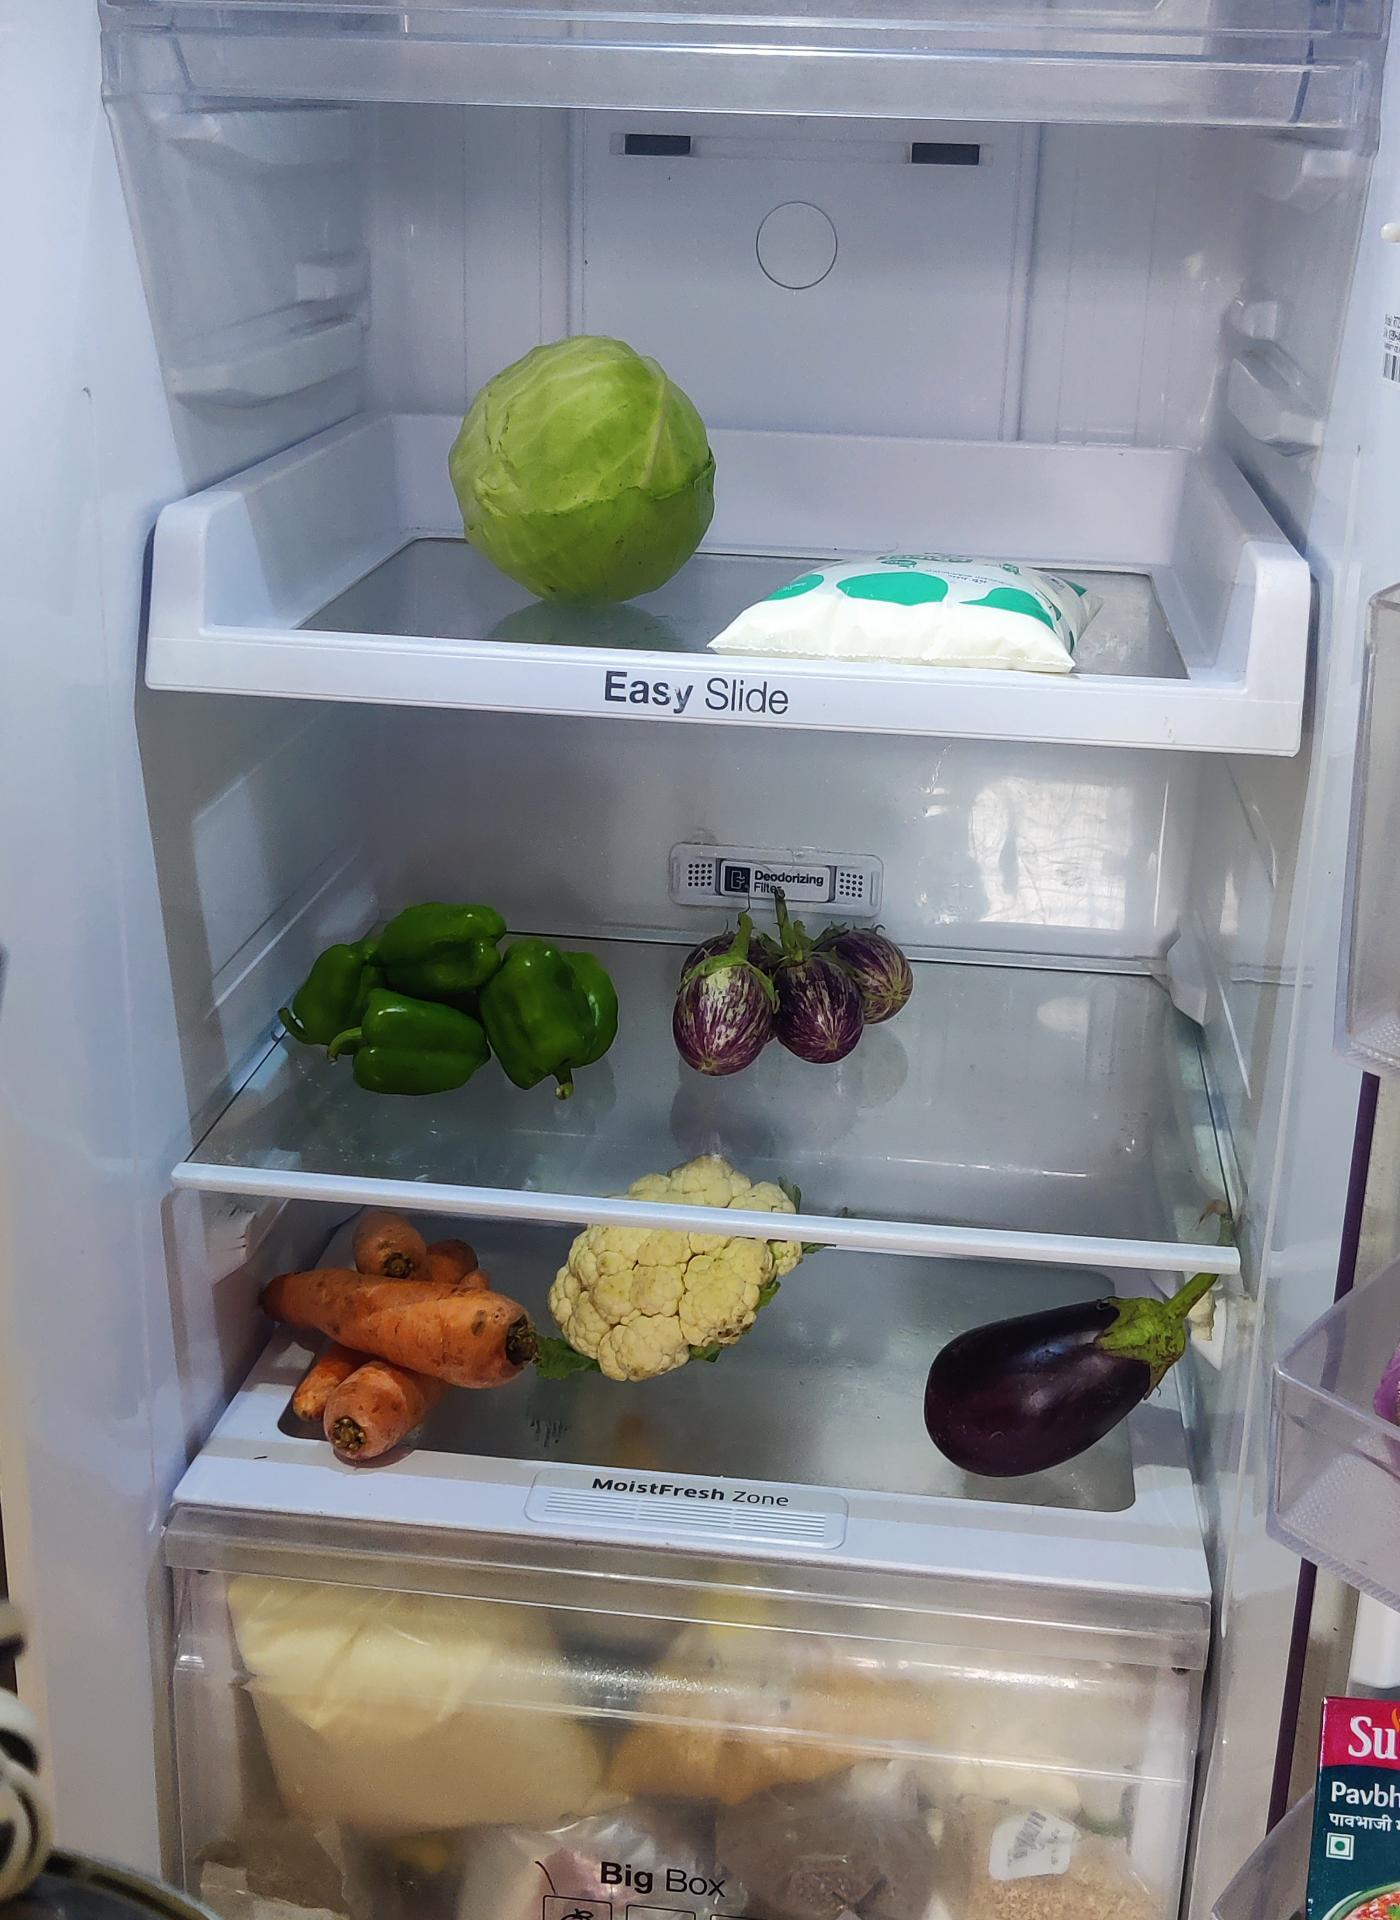brinjal: (923, 1264, 1208, 1482), (675, 903, 904, 1067)
cabbage: (455, 341, 713, 592)
capsicum: (291, 903, 620, 1090)
carrots: (264, 1216, 534, 1455)
cauliflower: (561, 1167, 804, 1373)
milk: (711, 550, 1100, 668)
